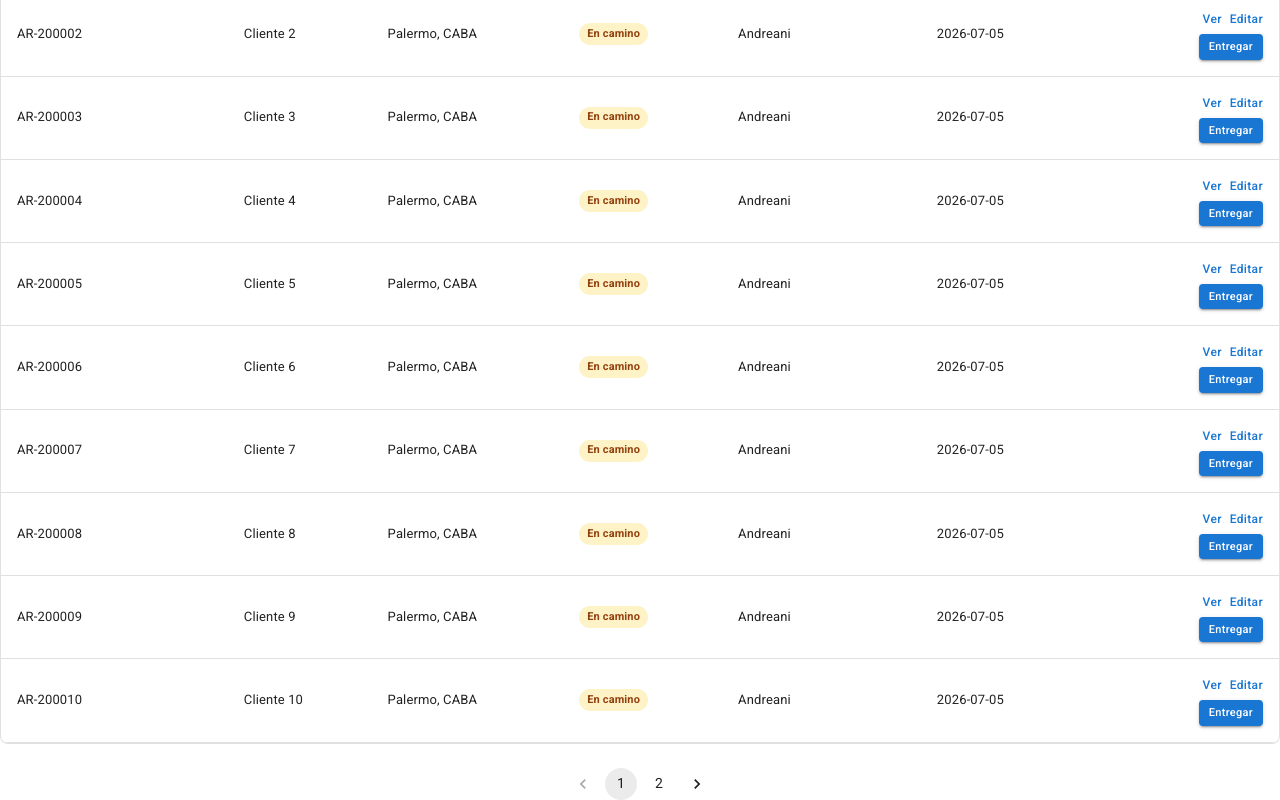
Test: ShipmentsPage › muestra de a 10 envíos y el resto en la página siguiente
The image size is (1280, 800).
(page scrolled)
Expected: the text "AR-200010" is shown, [1,659,228,742]
Expected: the text "AR-200011" is not shown
Click the button named "page 2" at {"x": 659, "y": 784}, box [643,768,675,799]
(page scrolled)
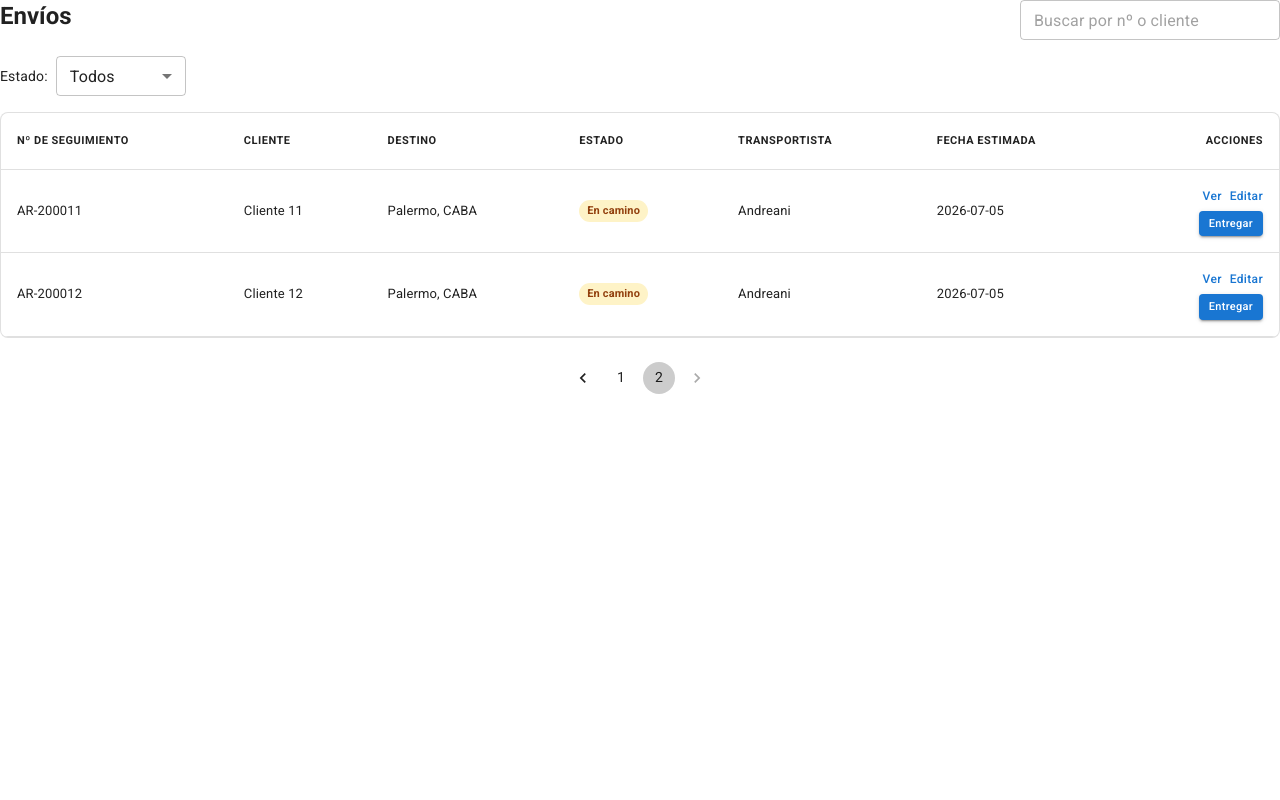
Expected: the text "AR-200011" is shown, [1,170,228,253]
Expected: the text "AR-200012" is shown, [1,253,228,336]
